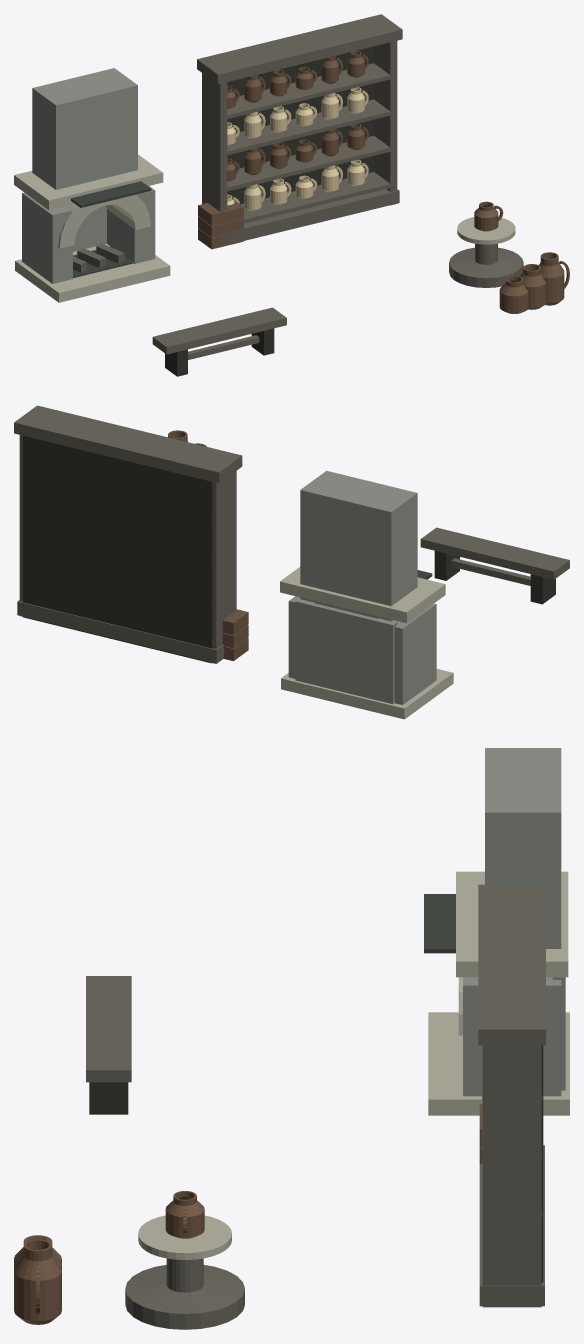
The model's file is village_pottery_artifacts.glb.
The picture shows the model from 3 angles, top to bottom: view 1: azimuth 30°, elevation 25°; view 2: azimuth 150°, elevation 25°; view 3: azimuth 270°, elevation 25°; orthographic projection. The views are drawn at different scales.
Parts seen in each view (by area): view 1: village_pottery_artifacts; view 2: village_pottery_artifacts; view 3: village_pottery_artifacts.
Boxes of the visible parts, x1,y1,x2,y2 form: village_pottery_artifacts: (14, 14, 569, 376); village_pottery_artifacts: (14, 405, 569, 719); village_pottery_artifacts: (14, 748, 569, 1329).
Bounding box in the file's own units: 6.66 × 2.95 × 5.1.
